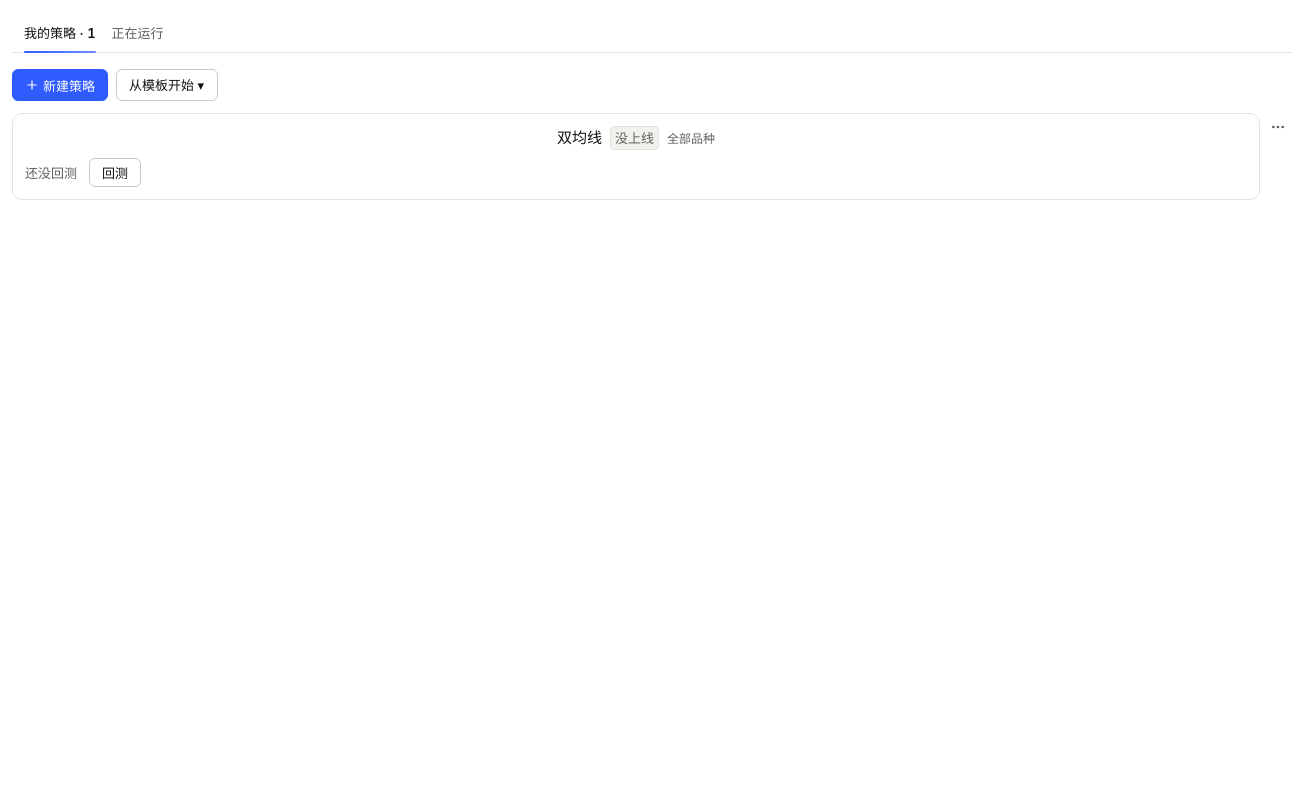
it: 回放中用主 Runtime 的不保存回测入口（子 Runtime 没有历史行情）
What coordinates should you click on to do the following:
click the button with aria-label "双均线 · "
I would click on:
 (636, 138)
Its box is [25,126,1247,150].
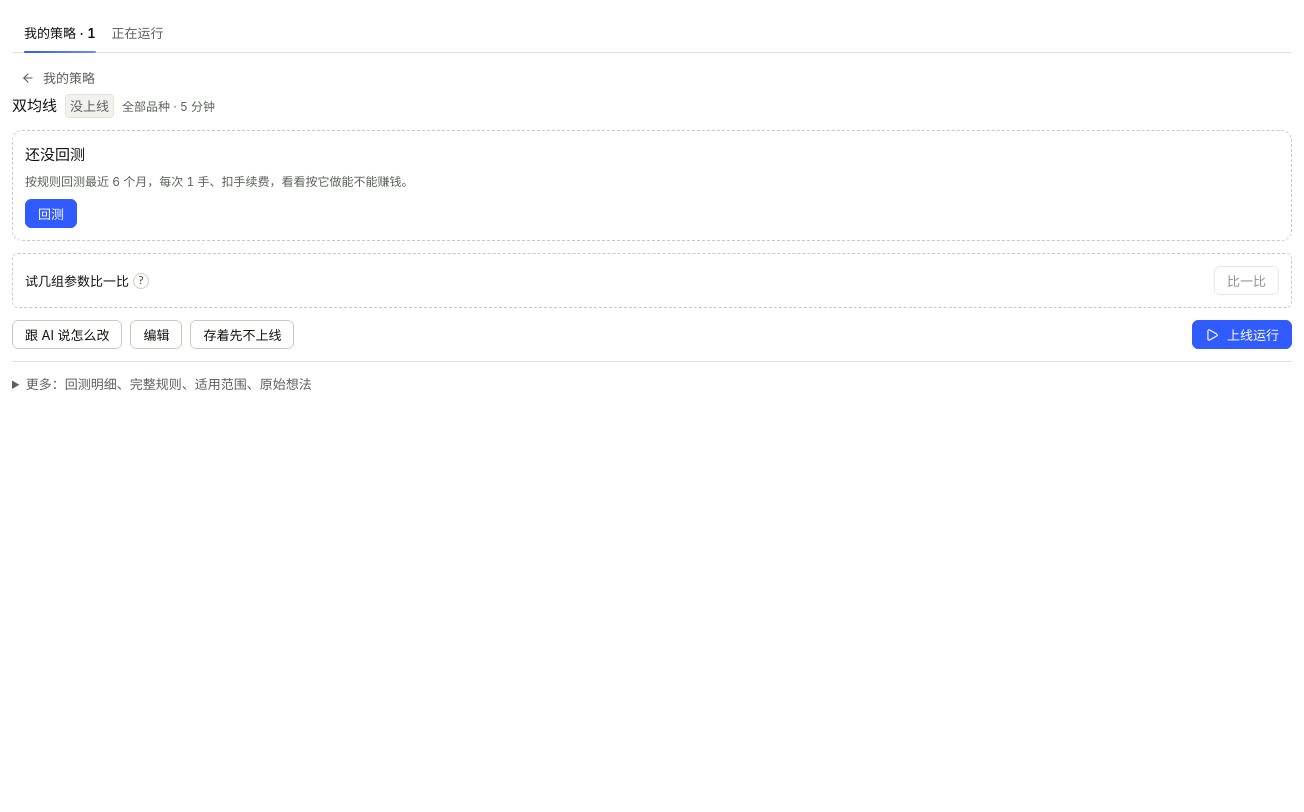
What coordinates should you click on to do the following:
click the button "回测"
I would click on:
 (51, 214)
Its box is [25,199,77,228].
(page scrolled)
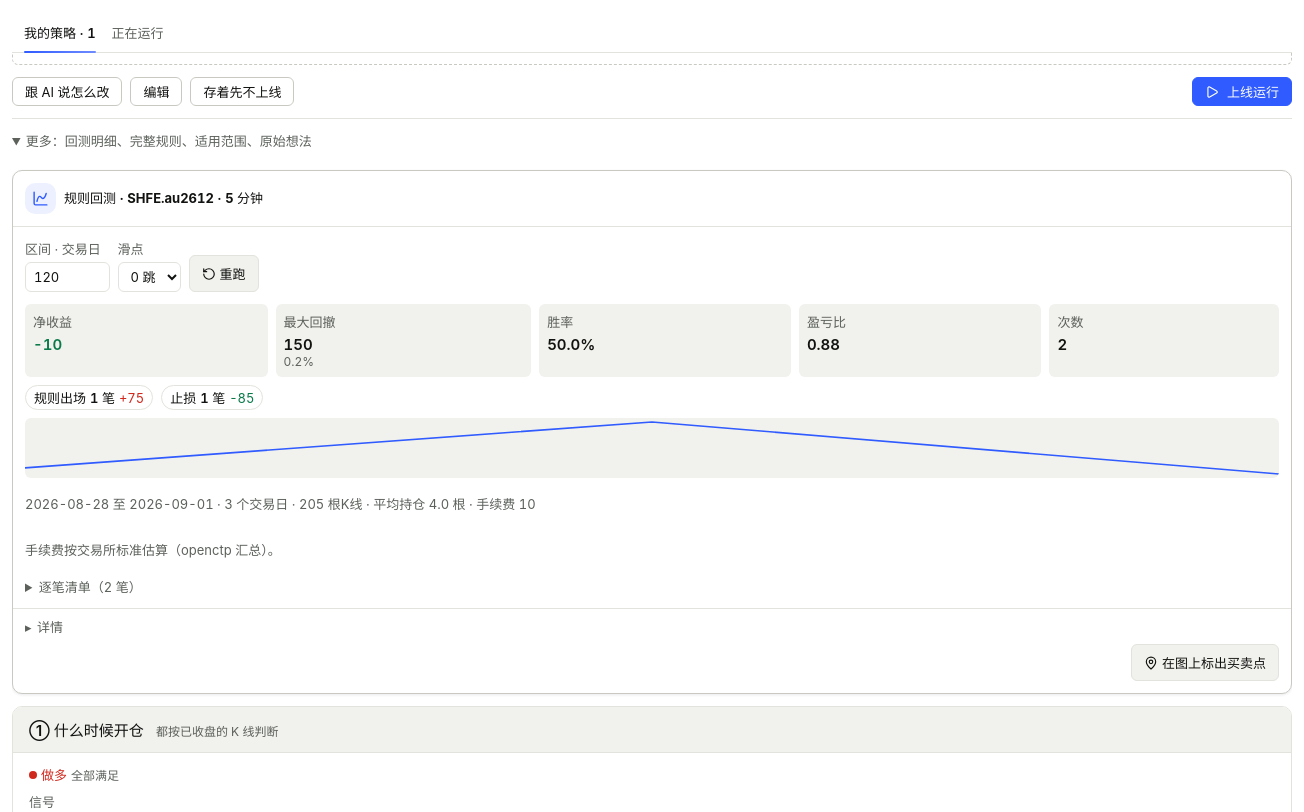
Now the element with test id "strategy-backtest-card" is shown
